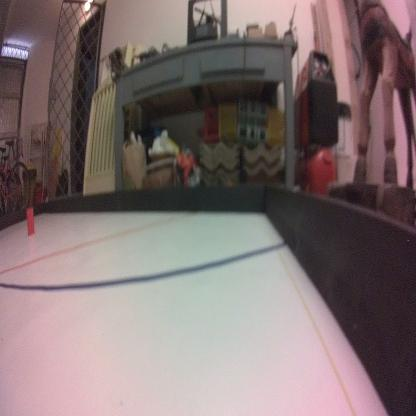red: (24, 206, 35, 237)
